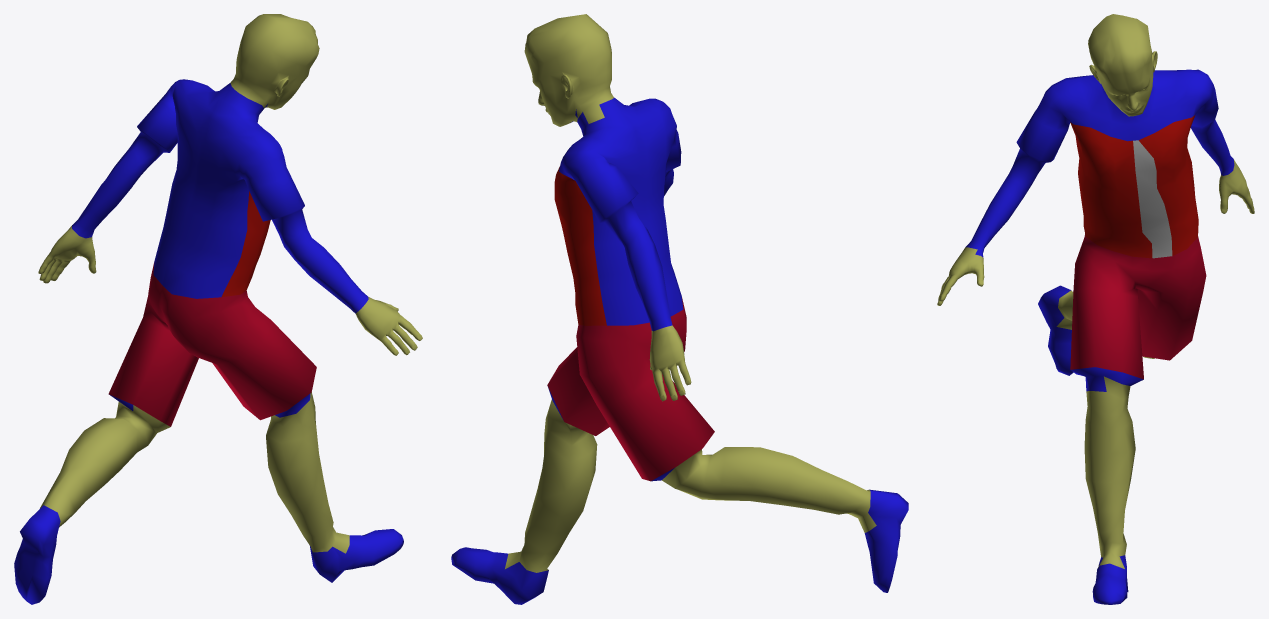
Rendered from player_000026.obj.
3 renders of one model, left to right at view 1: azimuth 30°, elevation 25°; view 2: azimuth 150°, elevation 25°; view 3: azimuth 270°, elevation 25°, orthographic. The views are drawn at different scales.
Visible parts, largest first — view 1: soccerplayer_mesh; view 2: soccerplayer_mesh; view 3: soccerplayer_mesh.
Boxes of the visible parts, <box> form: soccerplayer_mesh: <box>14,14,422,604</box>; soccerplayer_mesh: <box>451,14,908,604</box>; soccerplayer_mesh: <box>937,14,1254,604</box>.
Size of the model in its own units: 3.76 by 5.02 by 2.61.
